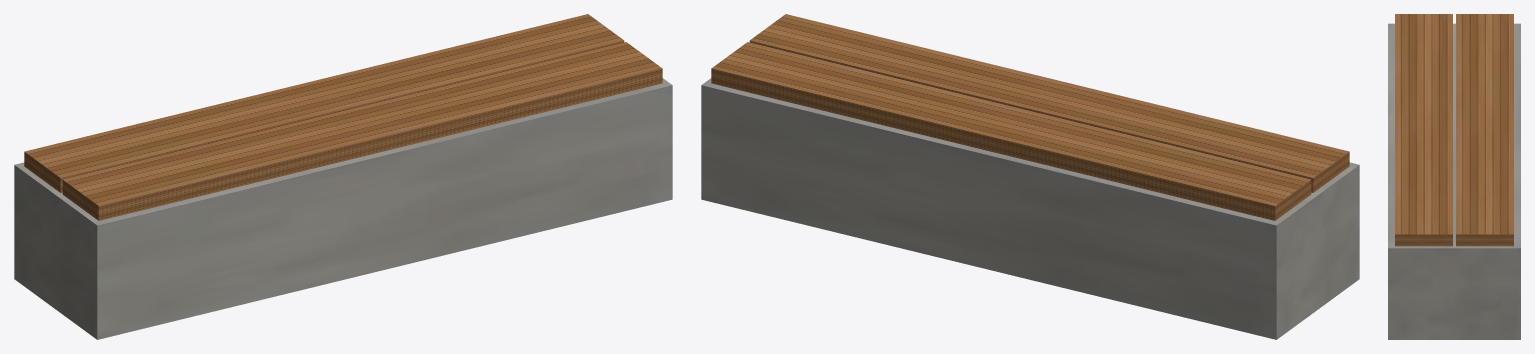
The model's file is banc_beton_lod1.glb.
3 renders of one model, left to right at view 1: azimuth 30°, elevation 25°; view 2: azimuth 150°, elevation 25°; view 3: azimuth 270°, elevation 25°, orthographic. The views are drawn at different scales.
Parts seen in each view (by area): view 1: banc_beton; view 2: banc_beton; view 3: banc_beton.
Boxes of the visible parts, <box> form: banc_beton: <box>14,14,672,339</box>; banc_beton: <box>701,14,1359,339</box>; banc_beton: <box>1388,14,1520,339</box>.
Size of the model in its own units: 2 by 0.4299 by 0.5001.
Materials: 1 (1 with a texture image).
